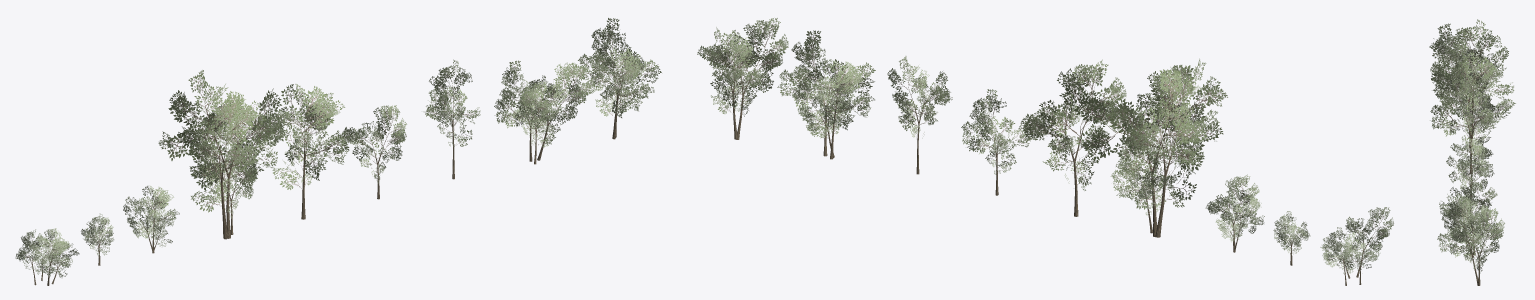
The model's file is V2_Sapling_Trees_1A1.fbx.
The picture shows the model from 3 angles, left to right: view 1: azimuth 30°, elevation 25°; view 2: azimuth 150°, elevation 25°; view 3: azimuth 270°, elevation 25°; orthographic projection. The views are drawn at different scales.
Parts seen in each view (by area): view 1: Sapling_1A9, Sapling_1A6, Sapling_1A8, Sapling_1A7, Sapling_1A4, Sapling_1A3, Sapling_1A2, Sapling_1A5, Sapling_1A1; view 2: Sapling_1A9, Sapling_1A6, Sapling_1A8, Sapling_1A7, Sapling_1A5, Sapling_1A3, Sapling_1A4, Sapling_1A2, Sapling_1A1; view 3: Sapling_1A9, Sapling_1A8, Sapling_1A7, Sapling_1A6, Sapling_1A4, Sapling_1A3, Sapling_1A5, Sapling_1A2.
Boxes of the visible parts, bbox=[...] form: Sapling_1A9: bbox=[158, 70, 289, 239]; Sapling_1A6: bbox=[494, 60, 594, 164]; Sapling_1A8: bbox=[257, 84, 356, 219]; Sapling_1A7: bbox=[576, 18, 661, 139]; Sapling_1A4: bbox=[423, 59, 480, 179]; Sapling_1A3: bbox=[343, 105, 406, 199]; Sapling_1A2: bbox=[123, 185, 179, 253]; Sapling_1A5: bbox=[15, 228, 79, 285]; Sapling_1A1: bbox=[81, 213, 114, 265]; Sapling_1A9: bbox=[1073, 58, 1227, 237]; Sapling_1A6: bbox=[777, 30, 875, 159]; Sapling_1A8: bbox=[1018, 59, 1126, 216]; Sapling_1A7: bbox=[697, 18, 788, 139]; Sapling_1A5: bbox=[1320, 207, 1393, 285]; Sapling_1A3: bbox=[961, 89, 1033, 195]; Sapling_1A4: bbox=[887, 56, 952, 174]; Sapling_1A2: bbox=[1205, 174, 1264, 252]; Sapling_1A1: bbox=[1273, 211, 1310, 265]; Sapling_1A9: bbox=[1429, 19, 1514, 148]; Sapling_1A8: bbox=[1430, 66, 1515, 174]; Sapling_1A7: bbox=[1437, 202, 1504, 285]; Sapling_1A6: bbox=[1439, 180, 1497, 257]; Sapling_1A4: bbox=[1446, 145, 1494, 212]; Sapling_1A3: bbox=[1450, 135, 1493, 196]; Sapling_1A5: bbox=[1436, 32, 1485, 75]; Sapling_1A2: bbox=[1451, 70, 1492, 117].
Size of what is drawn, in the model's own units: 4292 by 1084 by 764.
